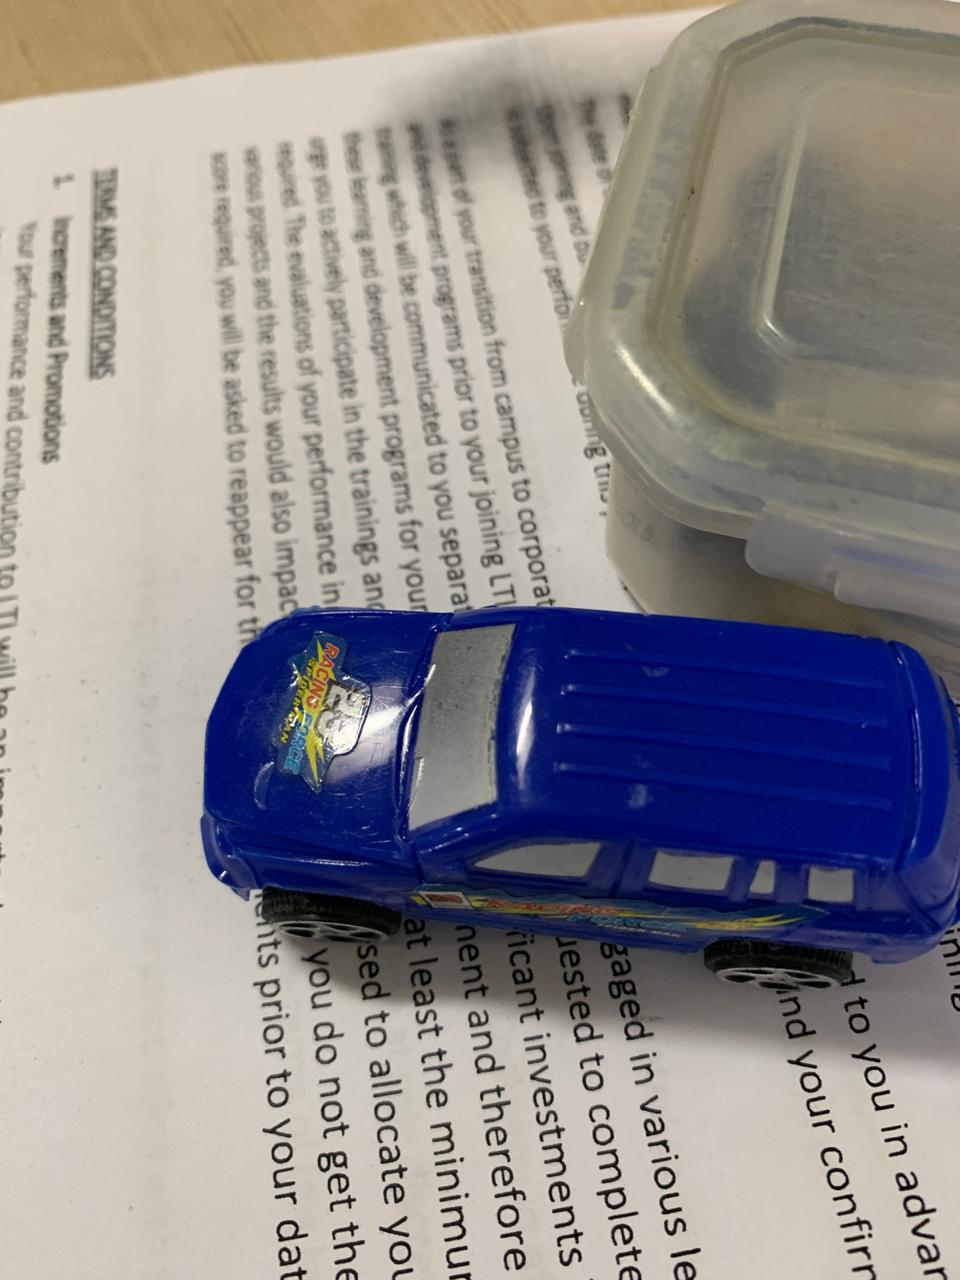car: (237, 591, 951, 990)
